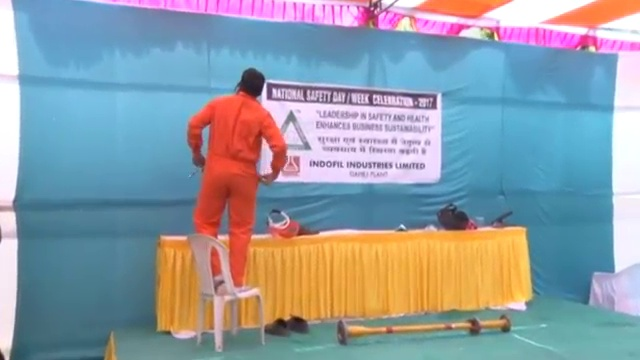helmet_off: (236, 69, 266, 100)
person: (179, 68, 286, 292)
